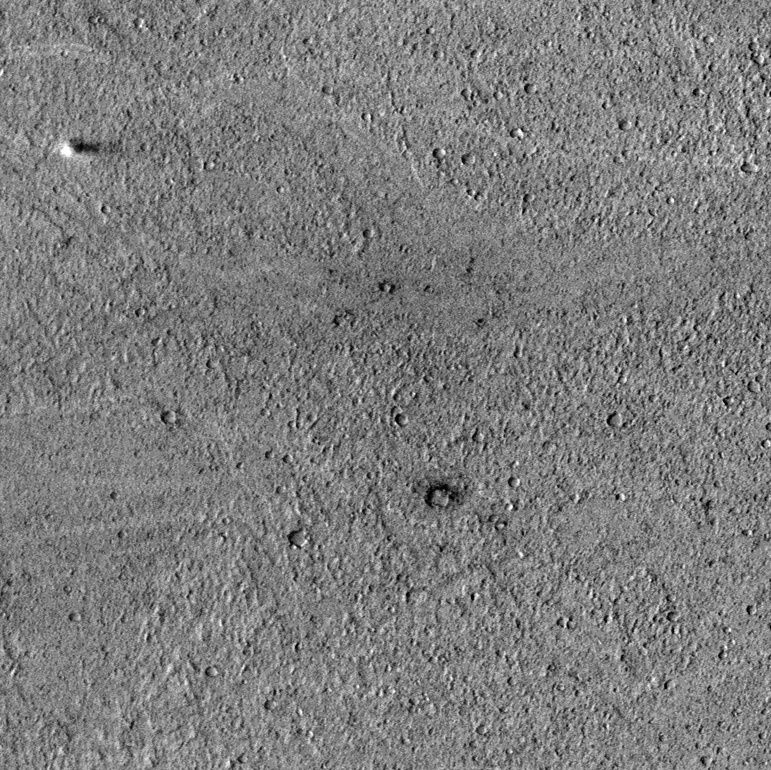dust_devil: (57, 135, 123, 158)
